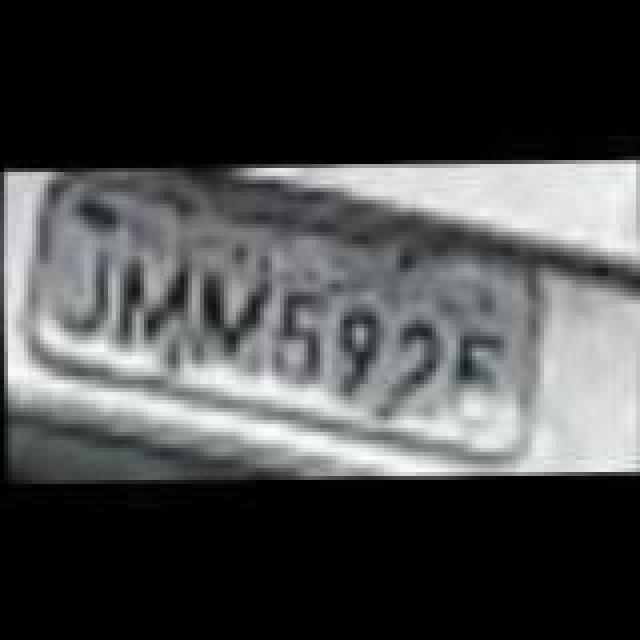2: (378, 314, 442, 426)
5: (448, 322, 516, 426), (266, 286, 330, 386)
9: (330, 304, 386, 400)
J: (50, 238, 114, 346)
M: (188, 262, 280, 382), (106, 250, 194, 366)
